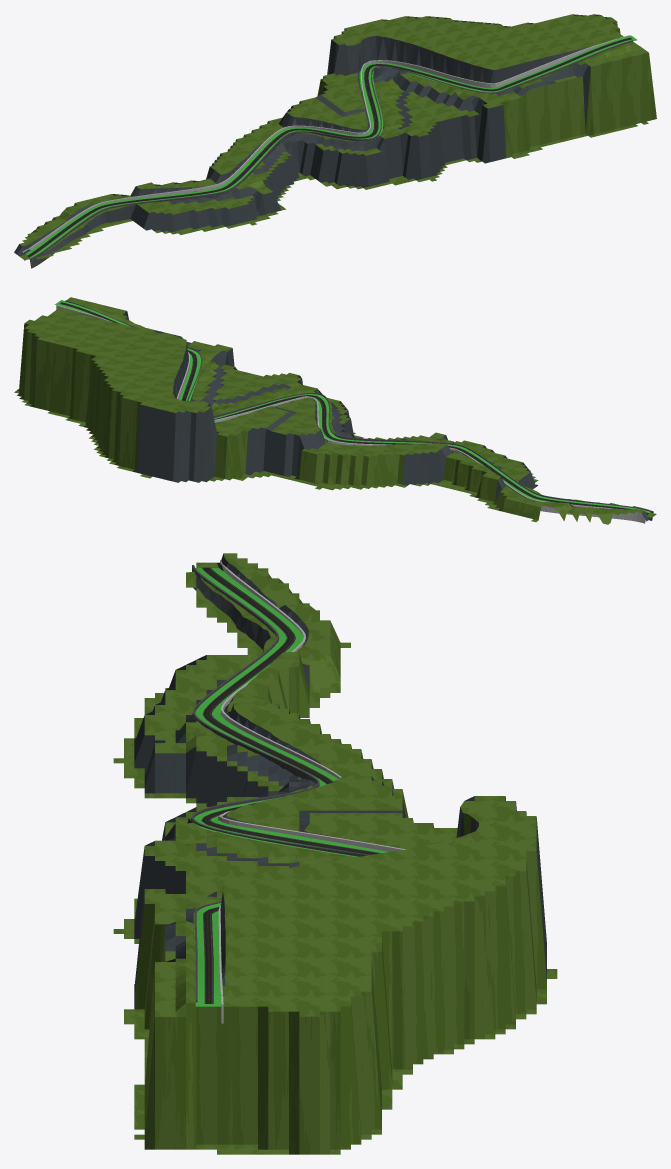
Rendered from mapa_2y4.glb.
The picture shows the model from 3 angles, top to bottom: view 1: azimuth 30°, elevation 25°; view 2: azimuth 150°, elevation 25°; view 3: azimuth 270°, elevation 25°; orthographic projection. The views are drawn at different scales.
Parts seen in each view (by area): view 1: Plane.002, Plane.003, Plane.001, Plane, Cube.001, Cube; view 2: Plane.002, Plane.003, Plane.001, Plane, Cube.001, Cube; view 3: Plane.002, Plane.003, Plane.001, Plane, Cube, Cube.001.
Boxes of the visible parts, box(x1,y1,x2,y2) form: Plane.002: box(19, 14, 656, 260); Plane.003: box(14, 28, 591, 256); Plane.001: box(25, 35, 637, 257); Plane: box(27, 37, 632, 257); Cube.001: box(22, 35, 628, 260); Cube: box(29, 40, 632, 268); Plane.002: box(14, 297, 656, 524); Plane.003: box(79, 311, 650, 521); Plane.001: box(55, 300, 650, 512); Plane: box(60, 302, 649, 514); Cube.001: box(56, 305, 645, 523); Cube: box(65, 300, 653, 520); Plane.002: box(113, 553, 557, 1154); Plane.003: box(134, 553, 546, 1001); Plane.001: box(194, 568, 388, 1006); Plane: box(201, 567, 380, 1003); Cube: box(191, 565, 370, 1002); Cube.001: box(218, 560, 405, 1023).
Size of the model in its own units: 32.79 by 4.04 by 10.38.
Materials: 6 (6 with a texture image).
